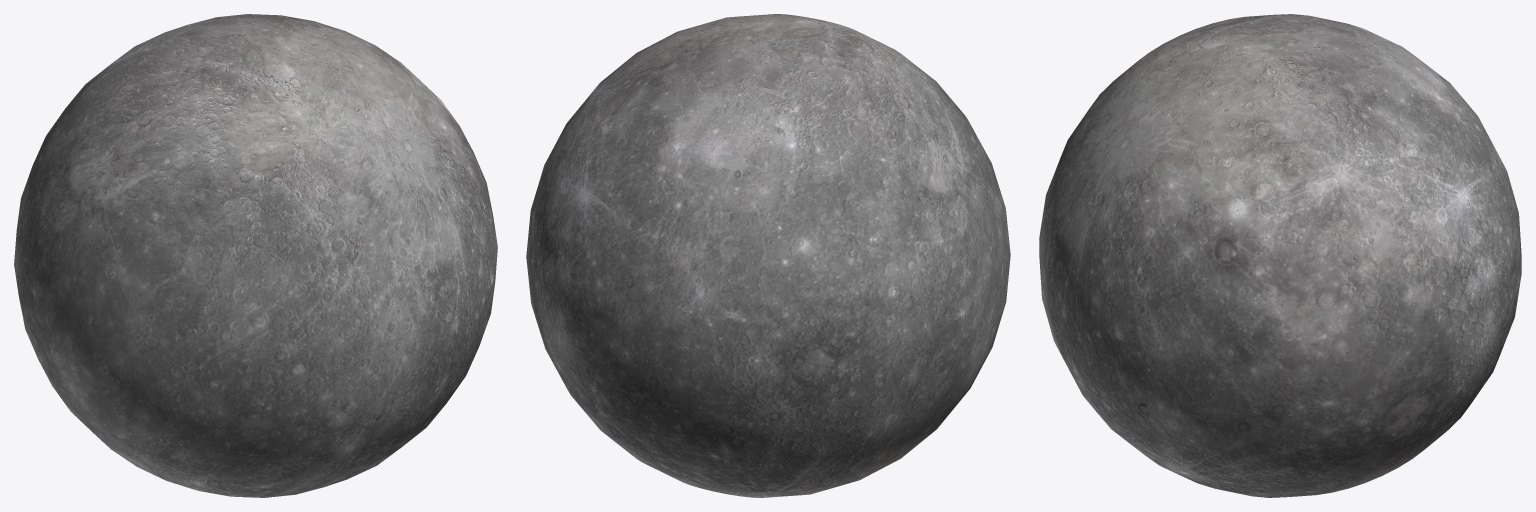
The model's file is moon-draco-transformed.glb.
The picture shows the model from 3 angles, left to right: view 1: azimuth 30°, elevation 25°; view 2: azimuth 150°, elevation 25°; view 3: azimuth 270°, elevation 25°; orthographic projection.
Parts seen in each view (by area): view 1: Mercury; view 2: Mercury; view 3: Mercury.
Part boxes in pixels (x1,y1,x2,y2): Mercury: (14,14,497,497); Mercury: (526,14,1010,497); Mercury: (1039,14,1521,497).
Size of the model in its own units: 3.94 by 3.96 by 3.94.
Materials: 1 (1 with a texture image).
